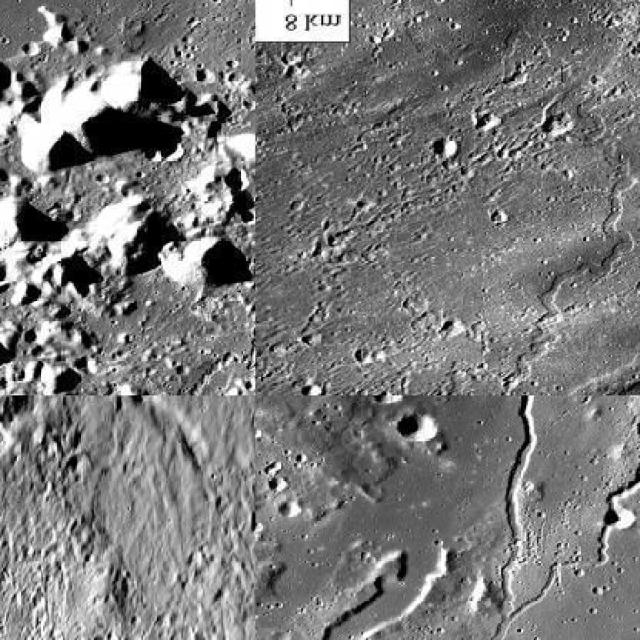rille: (0, 0, 254, 394), (406, 21, 639, 394), (37, 396, 254, 638), (458, 458, 638, 638), (451, 395, 543, 620)
